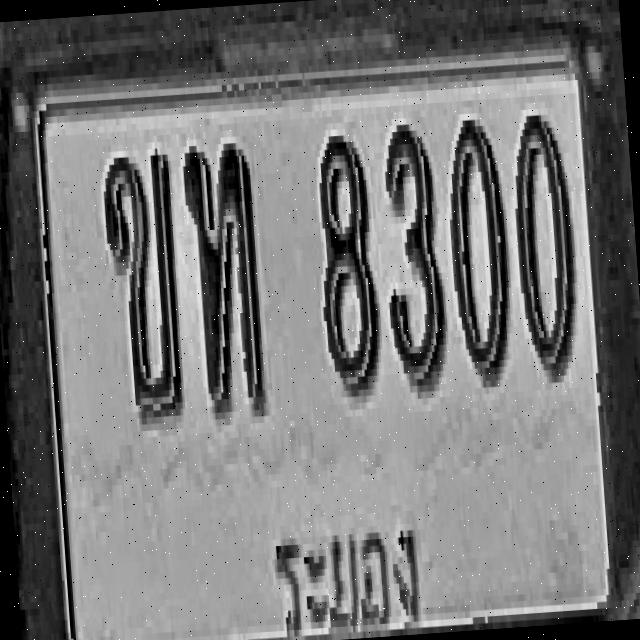0: (442, 108, 515, 386), (508, 106, 581, 378)
11KhorKhai: (100, 144, 186, 423)
3: (376, 115, 449, 394)
32ThorThaHan: (182, 138, 266, 416)
8: (310, 127, 383, 398)
Rayong: (263, 489, 431, 640)
